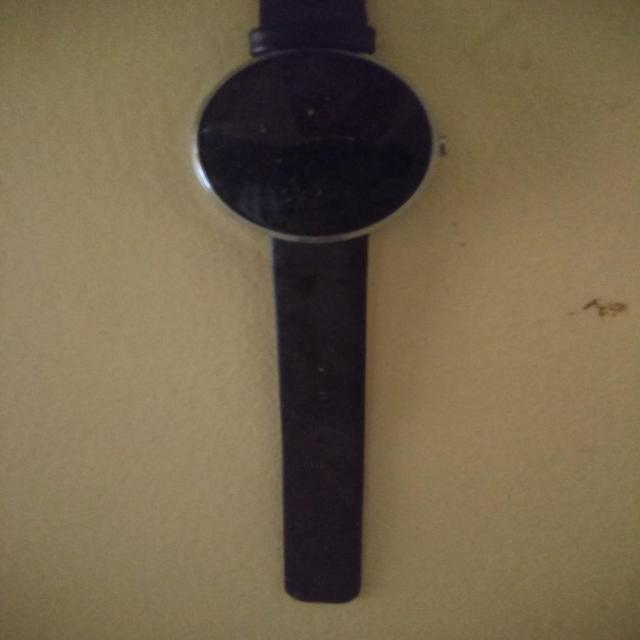Wrist watch: (186, 36, 469, 609)
